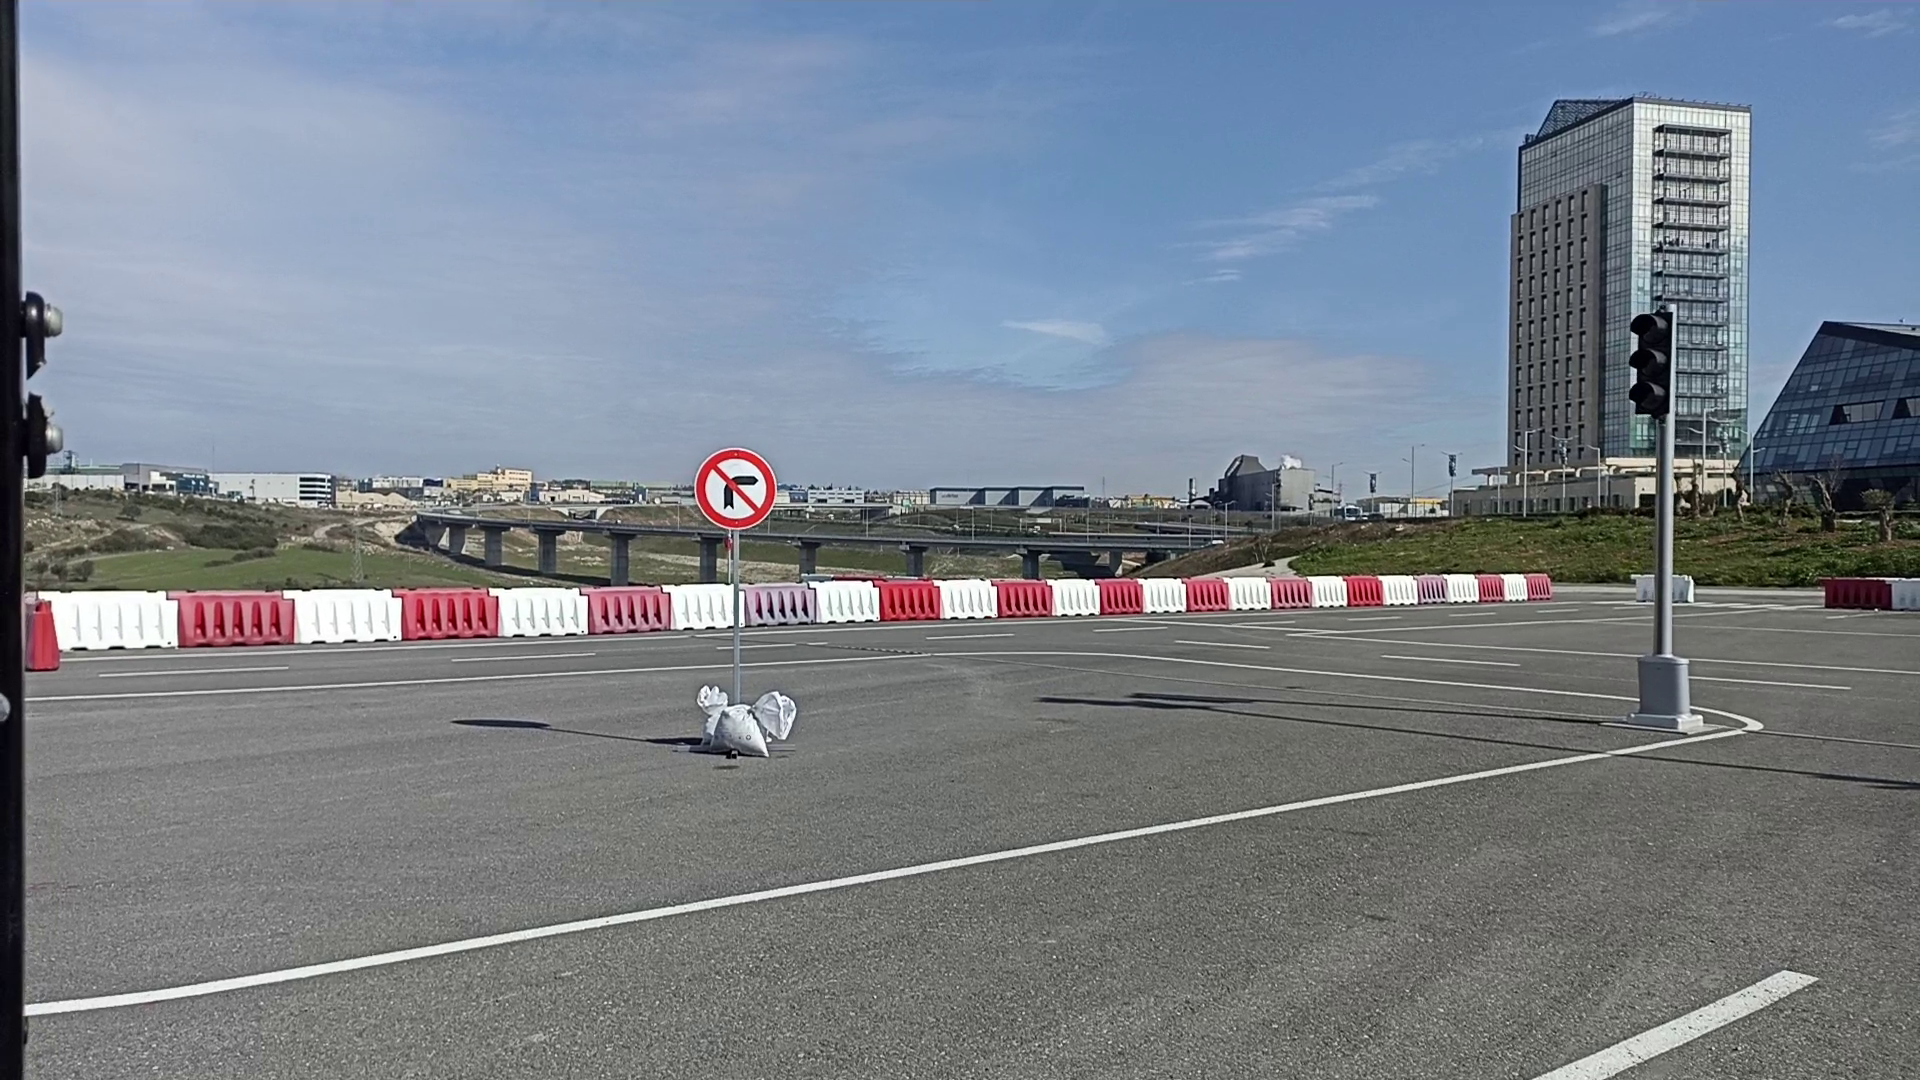noleftturn: (692, 444, 779, 531)
trafficlight: (1627, 302, 1675, 419)
